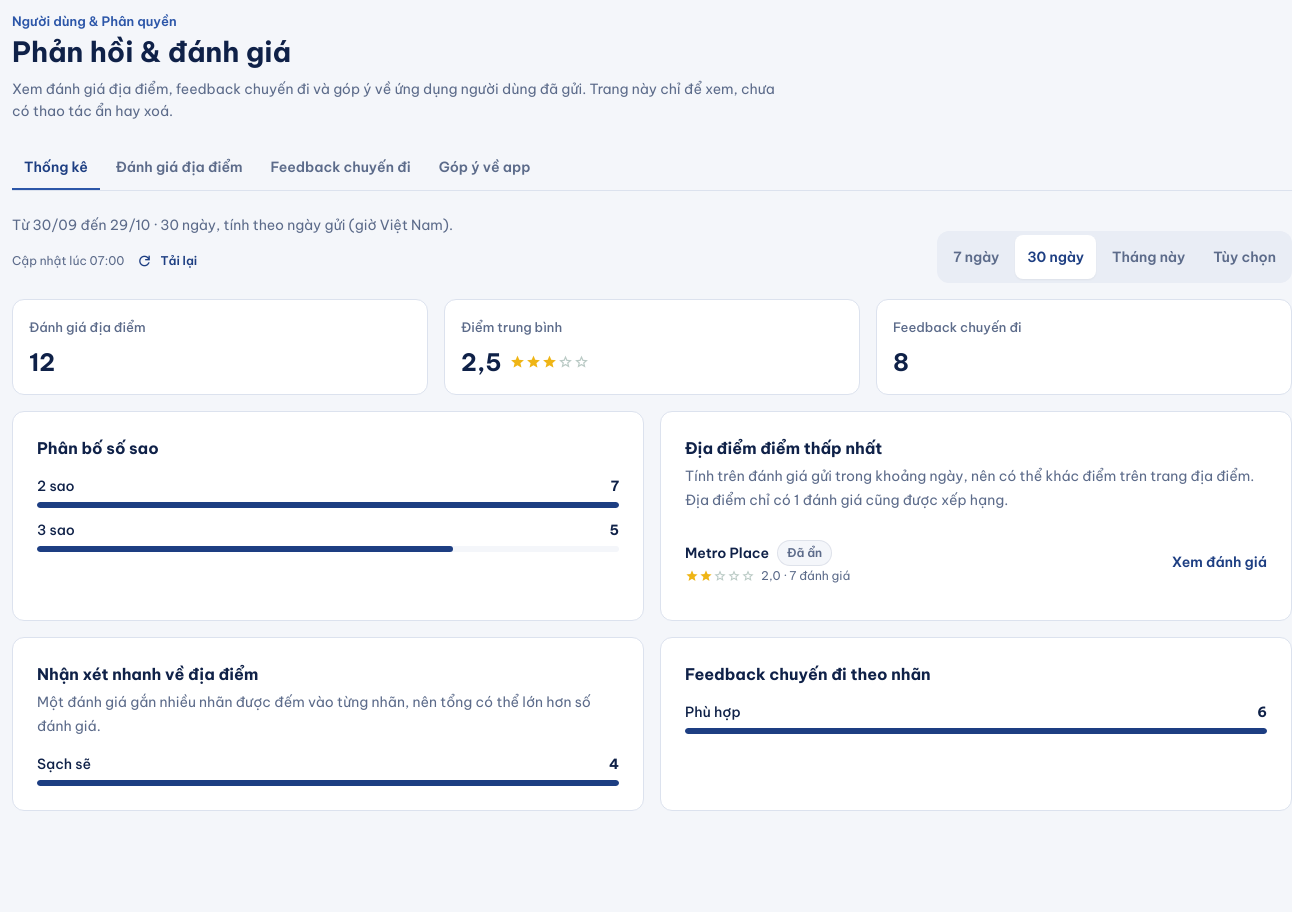
Test: A6 Feedback read-only and exact server data › lowest-rated preset switches to Reviews and preserves VN dates/place
Click the button "Xem đánh giá".
click(1219, 562)  # box [1172,540,1267,584]
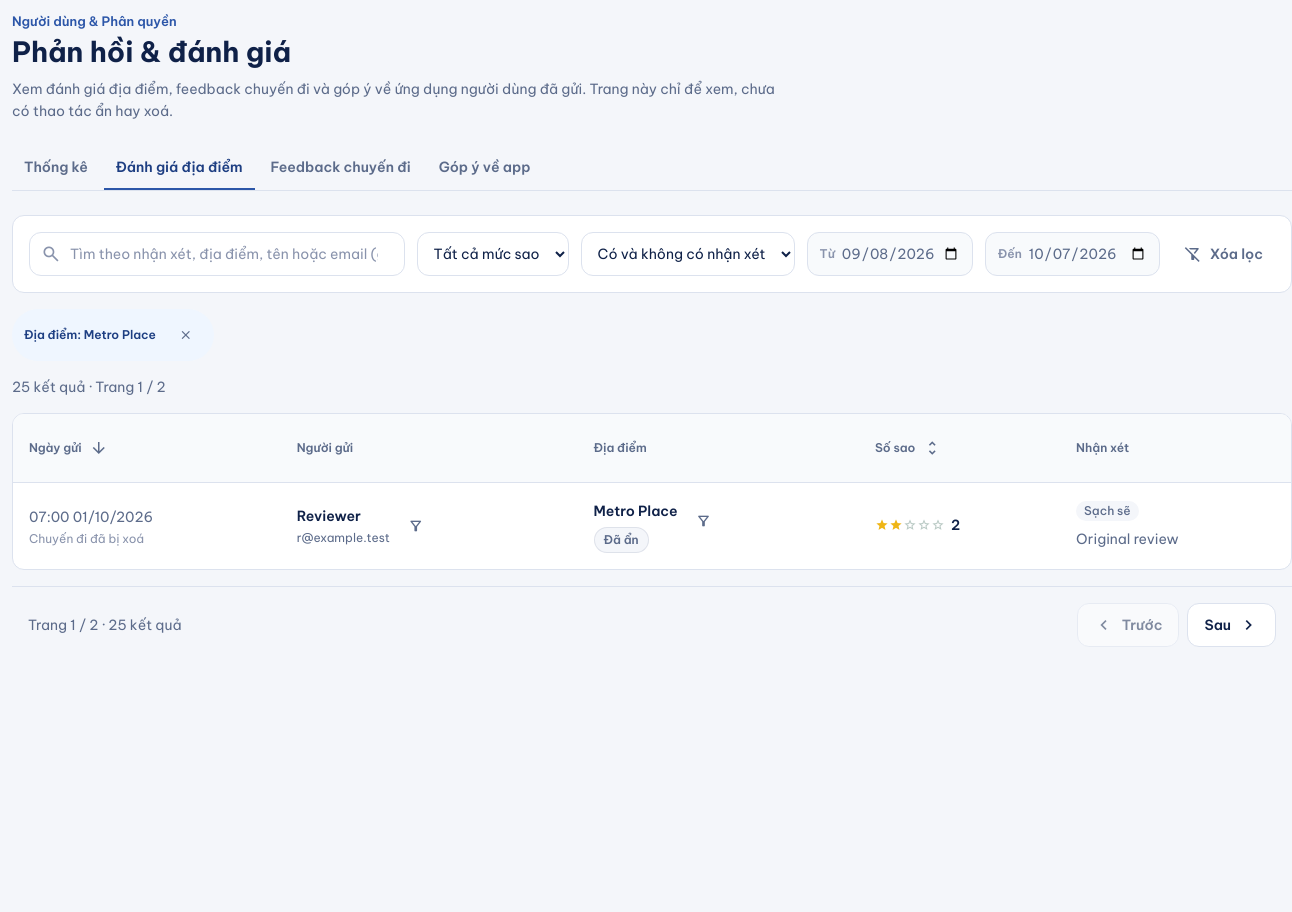
Result: the text "Original review" is shown at [1076,530,1179,548]
